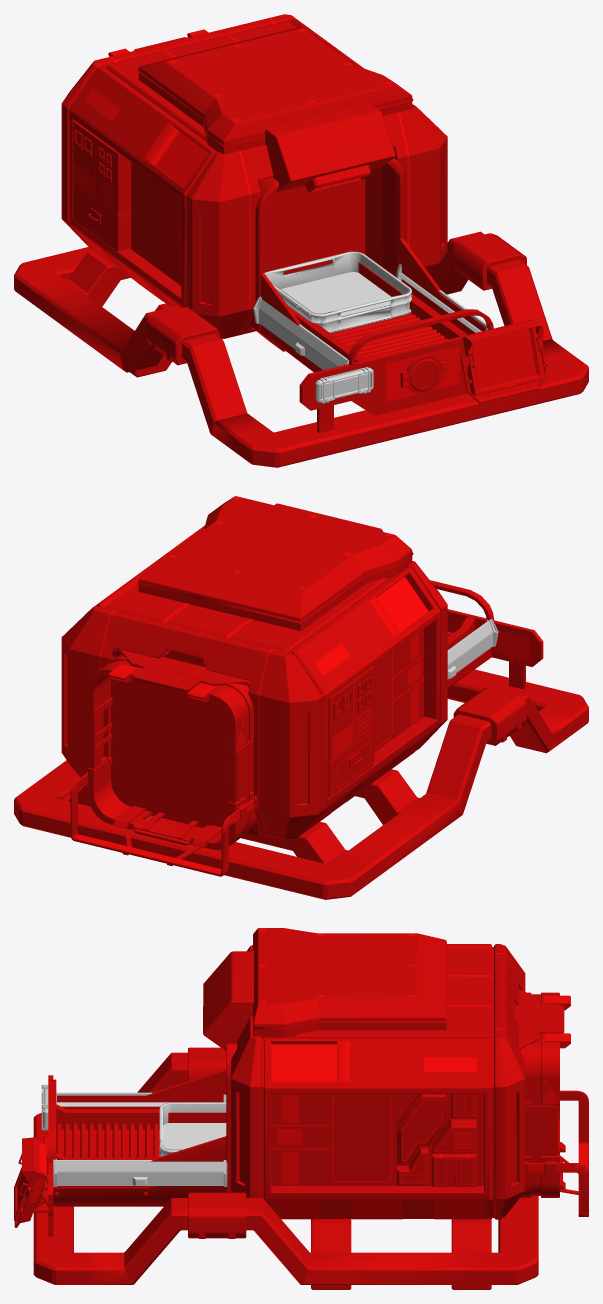
File: Dispenser_1.0.ex.fbx
3 views of the same model, one above another, from view 1: azimuth 30°, elevation 25°; view 2: azimuth 150°, elevation 25°; view 3: azimuth 270°, elevation 25° (orthographic). The views are drawn at different scales.
Parts seen in each view (by area): view 1: MinerMk1_static, SM_QuartzCrystal_01; view 2: MinerMk1_static; view 3: MinerMk1_static, SM_QuartzCrystal_01.
Part boxes in pixels (x1,y1,x2,y2): MinerMk1_static: (14,14,588,467); SM_QuartzCrystal_01: (264,251,411,333); MinerMk1_static: (14,496,588,899); MinerMk1_static: (14,928,588,1289); SM_QuartzCrystal_01: (159,1102,226,1156).
Bounding box in the file's own units: 495 × 346 × 713.
